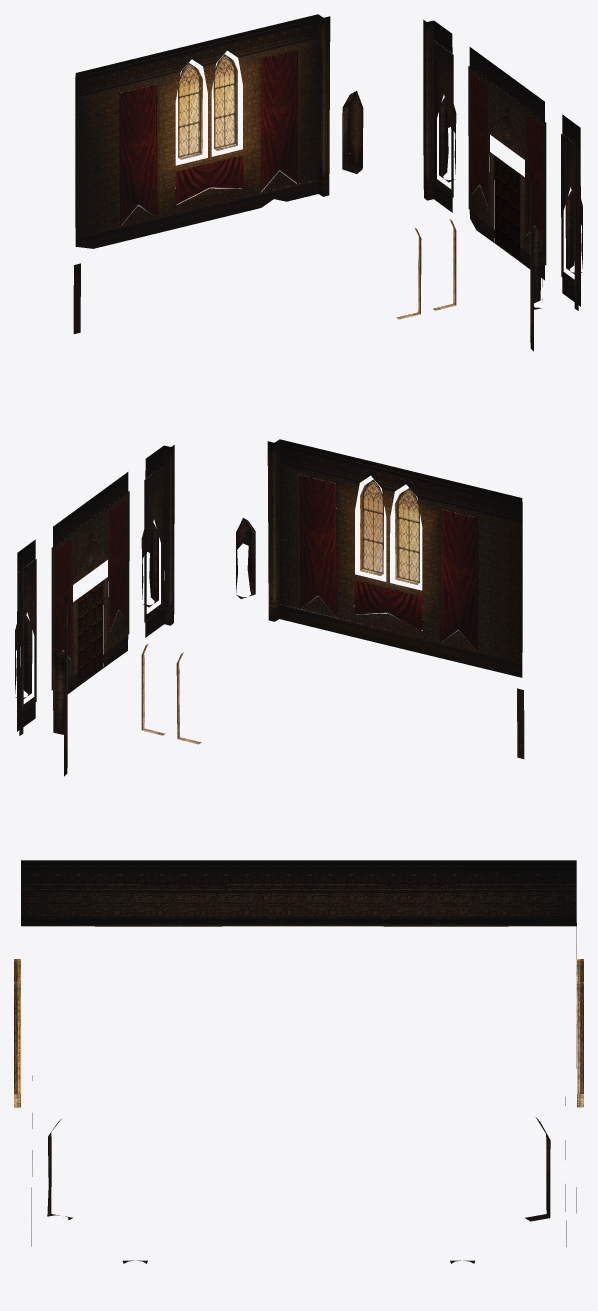
File: test-walls-opt.glb
3 renders of one model, top to bottom at view 1: azimuth 30°, elevation 25°; view 2: azimuth 150°, elevation 25°; view 3: azimuth 270°, elevation 25°, orthographic. The views are drawn at different scales.
Visible parts, largest first — view 1: walls; view 2: walls; view 3: walls.
Part boxes in pixels (x1,y1,x2,y2): walls: [73, 14, 582, 351]; walls: [15, 439, 524, 776]; walls: [14, 860, 583, 1263].
Size of what is drawn, in the model's own units: 341 by 136 by 302.
16 materials, 16 textured.
